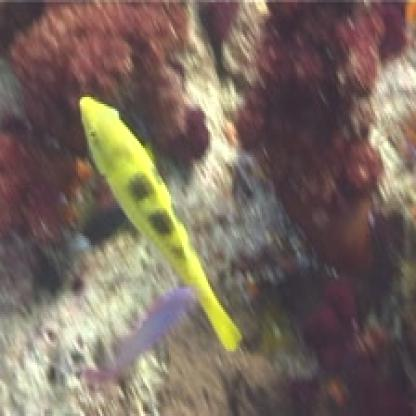Scaridae -Parrotfishes-: (72, 84, 244, 352)
